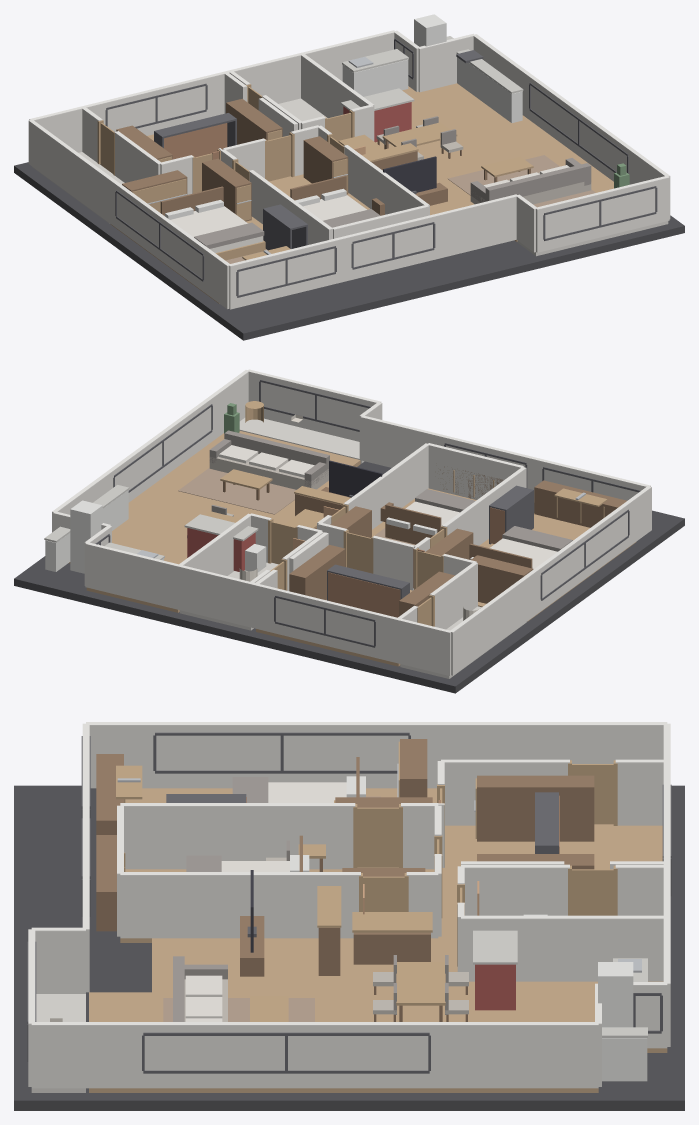
The model's file is poly-home.glb.
3 views of the same model, one above another, from view 1: azimuth 30°, elevation 25°; view 2: azimuth 150°, elevation 25°; view 3: azimuth 270°, elevation 25° (orthographic). The views are drawn at different scales.
Parts seen in each view (by area): view 1: Apartment; view 2: Apartment; view 3: Apartment.
Boxes of the visible parts, <box> form: Apartment: <box>14,14,684,340</box>; Apartment: <box>14,369,684,693</box>; Apartment: <box>14,722,684,1110</box>.
Size of the model in its own units: 13.02 by 2.06 by 11.72.
